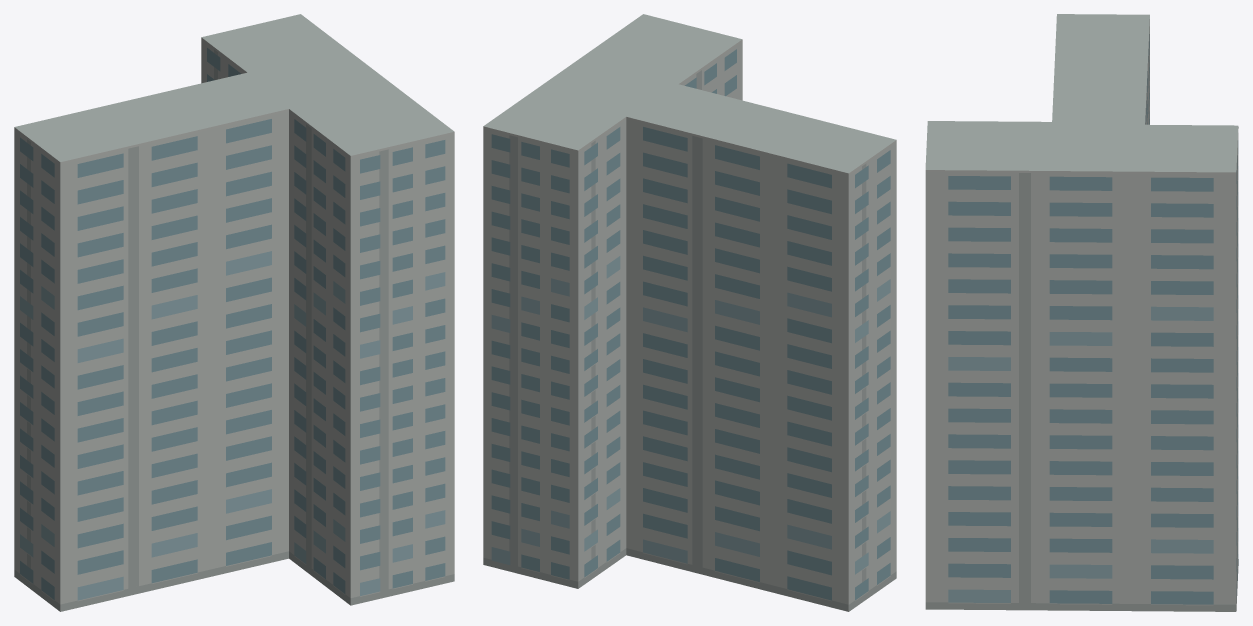
Rendered from residential-6be5a0ae-8880-4d46-8aa0-a322f045a7b8.glb.
3 renders of one model, left to right at view 1: azimuth 30°, elevation 25°; view 2: azimuth 150°, elevation 25°; view 3: azimuth 270°, elevation 25°, orthographic. The views are drawn at different scales.
Visible parts, largest first — view 1: residential-6be5a0ae-8880-4d46-8aa0-a322f045a7b8.tmp; view 2: residential-6be5a0ae-8880-4d46-8aa0-a322f045a7b8.tmp; view 3: residential-6be5a0ae-8880-4d46-8aa0-a322f045a7b8.tmp.
Boxes of the visible parts, left/top/right/bottom form: residential-6be5a0ae-8880-4d46-8aa0-a322f045a7b8.tmp: left=14, top=14, right=454, bottom=611; residential-6be5a0ae-8880-4d46-8aa0-a322f045a7b8.tmp: left=483, top=14, right=896, bottom=611; residential-6be5a0ae-8880-4d46-8aa0-a322f045a7b8.tmp: left=925, top=14, right=1238, bottom=611.
Bounding box in the file's own units: 37.9 × 49 × 31.64.
